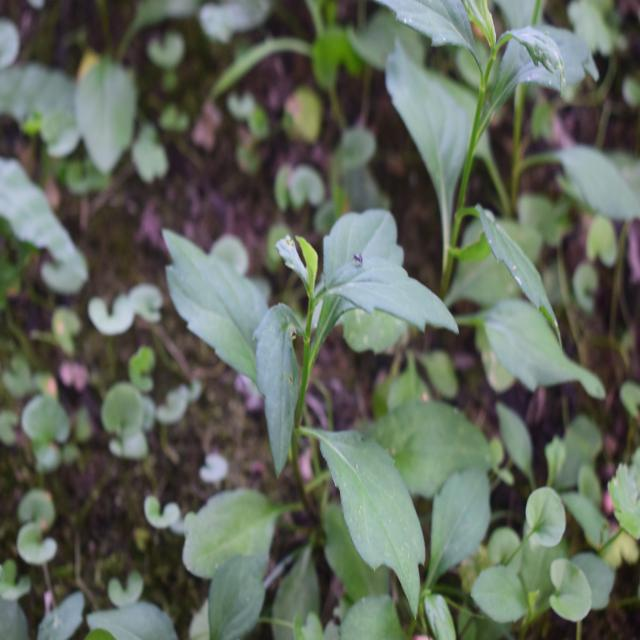Indian aster: (170, 205, 452, 598), (393, 0, 592, 419)
